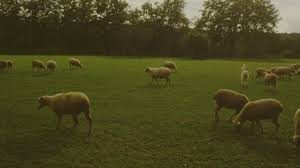sheep: (36, 91, 98, 136), (231, 97, 288, 137), (211, 88, 245, 116), (143, 64, 171, 84), (272, 63, 296, 79), (238, 62, 251, 86), (262, 71, 277, 89), (68, 56, 84, 71), (29, 58, 46, 72), (46, 59, 58, 73), (1, 59, 10, 75)
